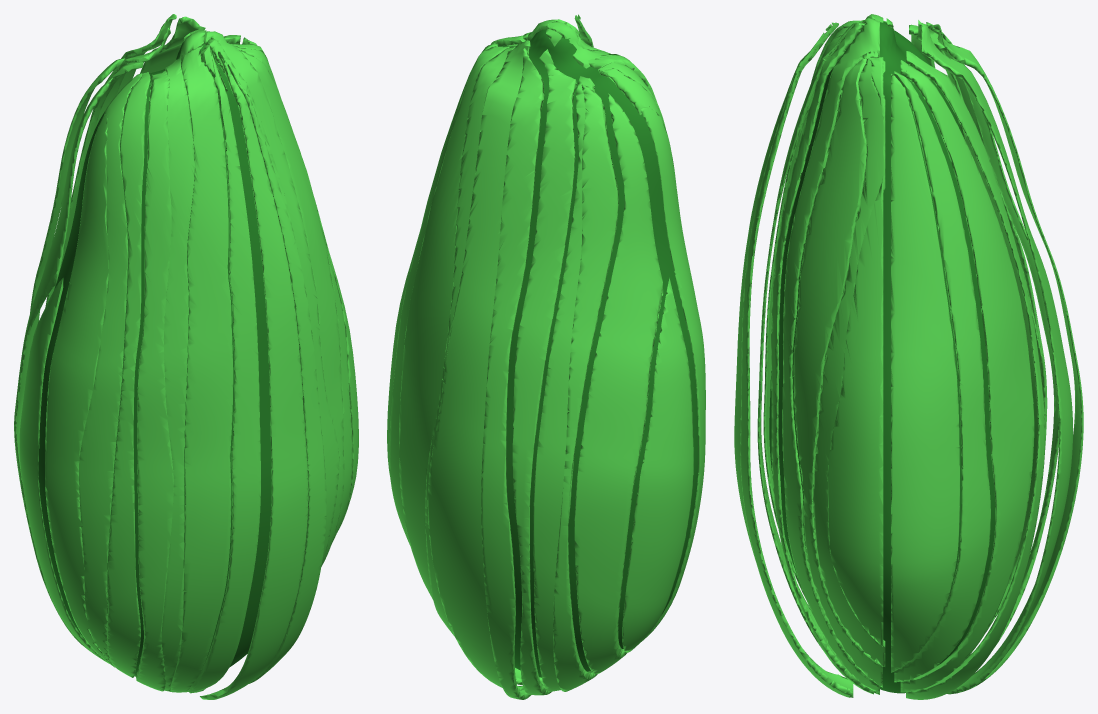
File: Green papaya skin.fbx
3 views of the same model, side by side, from view 1: azimuth 30°, elevation 25°; view 2: azimuth 150°, elevation 25°; view 3: azimuth 270°, elevation 25° (orthographic). The views are drawn at different scales.
Parts seen in each view (by area): view 1: Papaya skin split 8, Papaya skin split 1, Papaya skin split 13, Papaya skin split 10, Papaya skin, Papaya 2, Papaya skin split 12, Papaya skin split 11, Papaya skin split 9, Papaya skin split 2, Papaya skin split 5, Papaya skin split 4 (+10 smaller); view 2: Papaya skin split 23, Papaya skin split 18, Papaya 2, Papaya skin split 19, Papaya skin split 20, Papaya skin split 16, Papaya skin split 24, Papaya skin split 22, Papaya skin split 21, Papaya skin split 13, Papaya skin split 17, Papaya skin split 15 (+4 smaller); view 3: Papaya skin split 14, Papaya skin split 16, Papaya skin split 7, Papaya skin split 5, Papaya skin split 15, Papaya 2, Papaya skin split 4, Papaya skin split 6, Papaya skin split 17, Papaya skin split 18, Papaya skin split 3, Papaya skin split 2 (+7 smaller).
Part boxes in pixels (bbox=[...]): Papaya skin split 8: bbox=[169, 45, 233, 692]; Papaya skin split 1: bbox=[200, 51, 307, 699]; Papaya skin split 13: bbox=[45, 114, 114, 667]; Papaya skin split 10: bbox=[135, 45, 242, 693]; Papaya skin: bbox=[187, 42, 260, 692]; Papaya 2: bbox=[38, 39, 271, 675]; Papaya skin split 12: bbox=[79, 73, 142, 667]; Papaya skin split 11: bbox=[107, 72, 150, 677]; Papaya skin split 9: bbox=[161, 30, 206, 691]; Papaya skin split 2: bbox=[218, 53, 326, 683]; Papaya skin split 5: bbox=[241, 51, 344, 566]; Papaya skin split 4: bbox=[203, 31, 339, 562]; Papaya skin split 23: bbox=[574, 93, 663, 673]; Papaya skin split 18: bbox=[427, 40, 530, 690]; Papaya 2: bbox=[500, 29, 698, 677]; Papaya skin split 19: bbox=[481, 48, 544, 699]; Papaya skin split 20: bbox=[512, 49, 577, 695]; Papaya skin split 16: bbox=[399, 46, 509, 599]; Papaya skin split 24: bbox=[622, 278, 693, 652]; Papaya skin split 22: bbox=[553, 84, 618, 691]; Papaya skin split 21: bbox=[533, 76, 594, 691]; Papaya skin split 13: bbox=[641, 106, 705, 641]; Papaya skin split 17: bbox=[425, 46, 542, 685]; Papaya skin split 15: bbox=[389, 44, 497, 545]; Papaya skin split 14: bbox=[891, 73, 959, 672]; Papaya skin split 16: bbox=[900, 60, 1034, 692]; Papaya skin split 7: bbox=[827, 57, 883, 646]; Papaya skin split 5: bbox=[793, 58, 882, 687]; Papaya skin split 15: bbox=[894, 71, 990, 682]; Papaya 2: bbox=[769, 21, 1035, 693]; Papaya skin split 4: bbox=[782, 18, 879, 694]; Papaya skin split 6: bbox=[813, 57, 885, 666]; Papaya skin split 17: bbox=[906, 51, 1045, 699]; Papaya skin split 18: bbox=[921, 22, 1072, 694]; Papaya skin split 3: bbox=[771, 22, 873, 694]; Papaya skin split 2: bbox=[740, 22, 850, 697].
Size of the model in its own units: 134 by 276 by 129.
